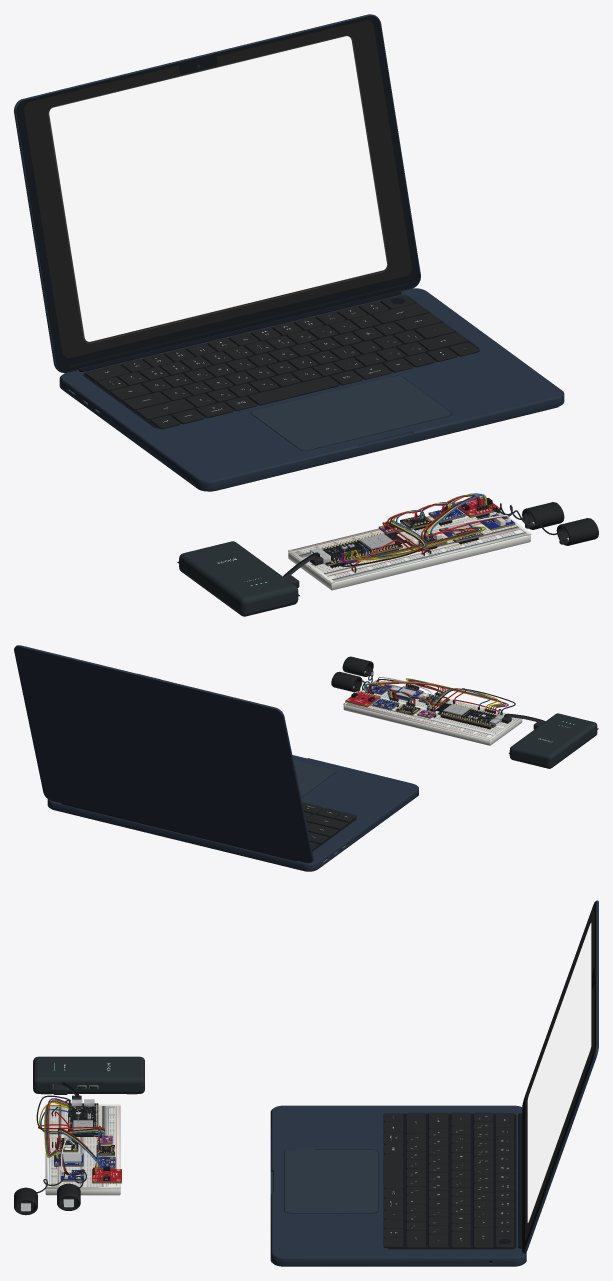
The model's file is pathos-hardware-mobile.glb.
3 views of the same model, one above another, from view 1: azimuth 30°, elevation 25°; view 2: azimuth 150°, elevation 25°; view 3: azimuth 270°, elevation 25° (orthographic). The views are drawn at different scales.
Visible parts, largest first — view 1: PATHOS_ROOT__static, PATHOS dashboard • inset rounded window, Liquid Retina active display, ESP32_S3__static; view 2: PATHOS_ROOT__static, ESP32_S3__static, TMP117__static; view 3: PATHOS_ROOT__static, PATHOS dashboard • inset rounded window, Liquid Retina active display, ESP32_S3__static.
Part boxes in pixels (x1,y1,x2,y2): PATHOS_ROOT__static: [14, 14, 598, 616]; PATHOS dashboard • inset rounded window: [49, 36, 386, 341]; Liquid Retina active display: [24, 20, 411, 357]; ESP32_S3__static: [310, 532, 406, 568]; PATHOS_ROOT__static: [14, 645, 598, 871]; ESP32_S3__static: [435, 701, 511, 729]; TMP117__static: [345, 690, 380, 707]; PATHOS_ROOT__static: [14, 900, 598, 1266]; PATHOS dashboard • inset rounded window: [527, 923, 591, 1222]; Liquid Retina active display: [525, 905, 594, 1240]; ESP32_S3__static: [68, 1095, 98, 1137].
Size of what is drawn, in the model's own units: 0.3871 by 0.2017 by 0.4912.
